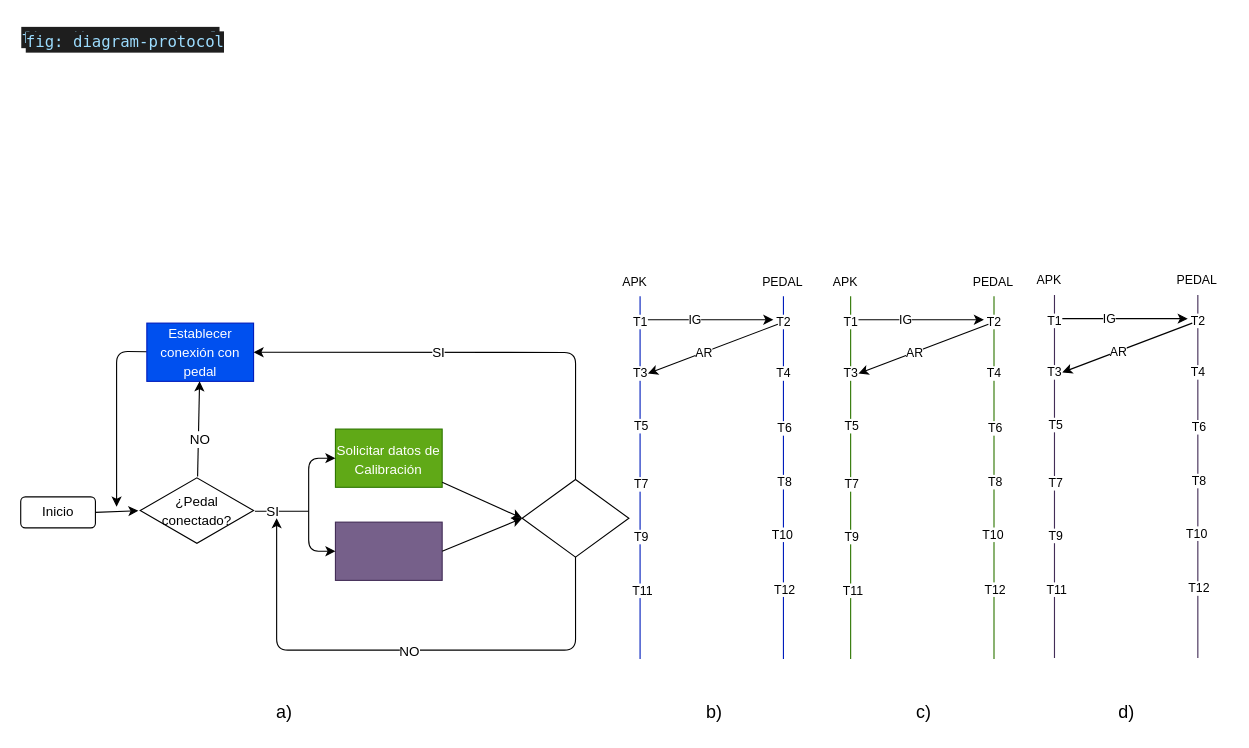
Some shapes in this 1249 by 748 pixel diagram are drawn without their labels. Each missing label, with the centre of its shape:
"Solicitar datos de Juego" goes at (388,550).
"¿Error de comunicación?" goes at (575,517).
